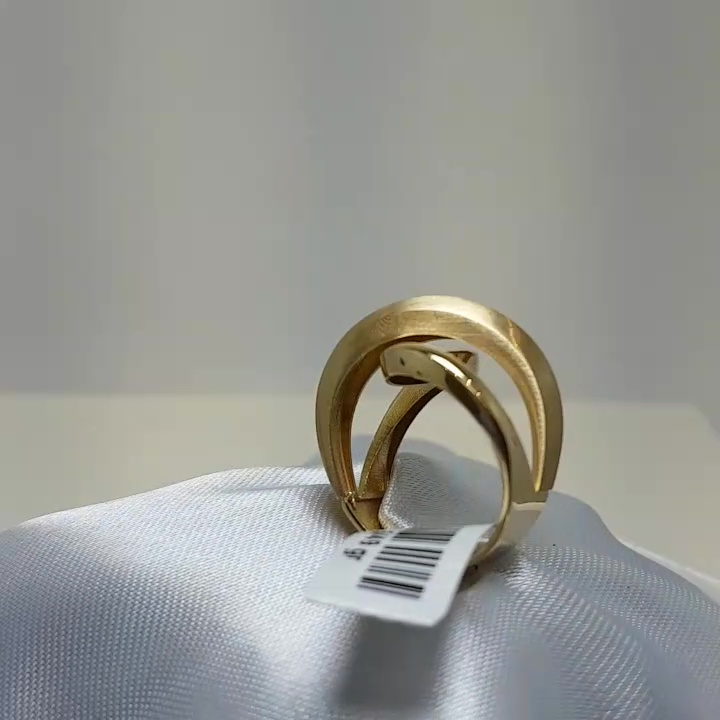Ring 3: (269, 266, 624, 595)
